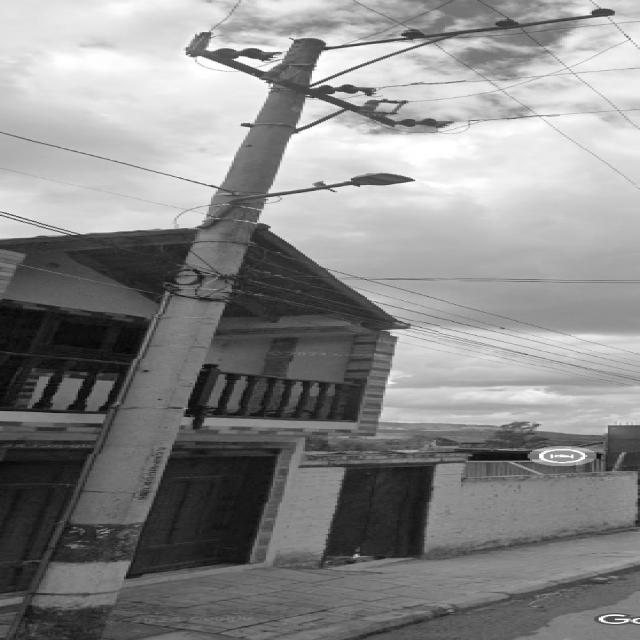Fachada: (133, 225, 395, 575), (2, 230, 195, 591)
Poste: (5, 7, 612, 639)
